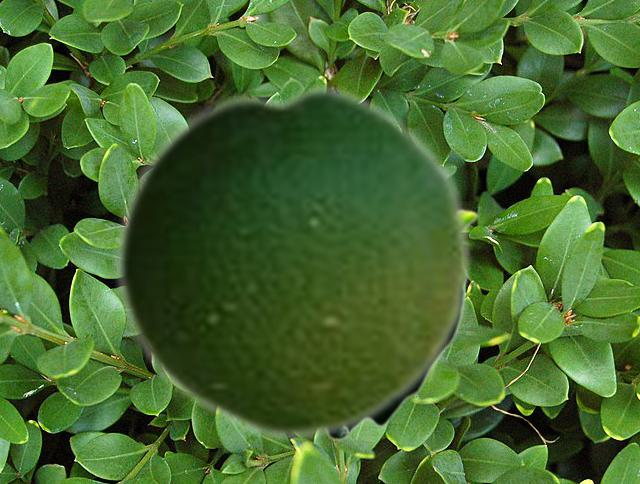dalandan: (112, 79, 473, 444)
